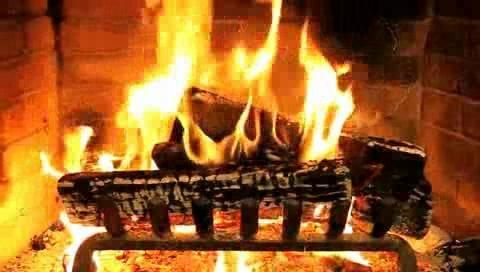fire: (110, 6, 356, 183)
